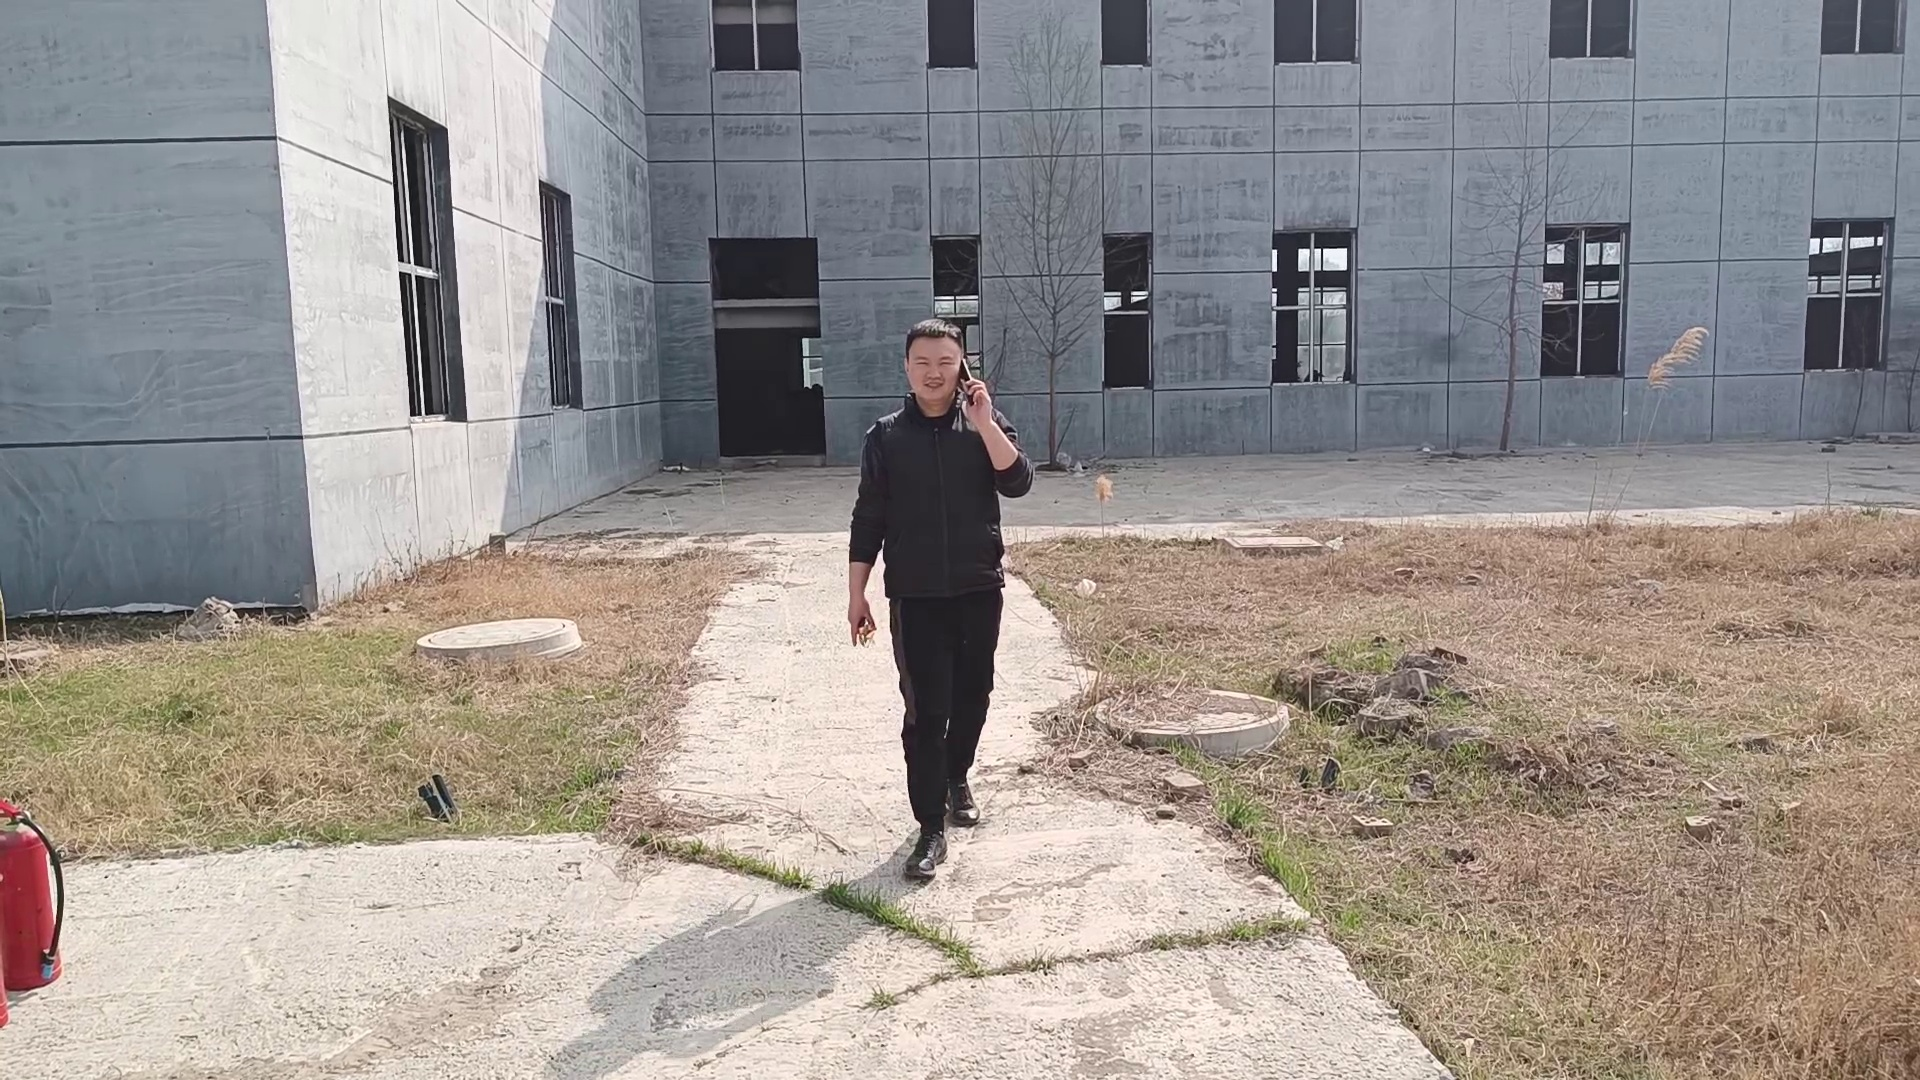phone: (895, 316, 986, 417)
